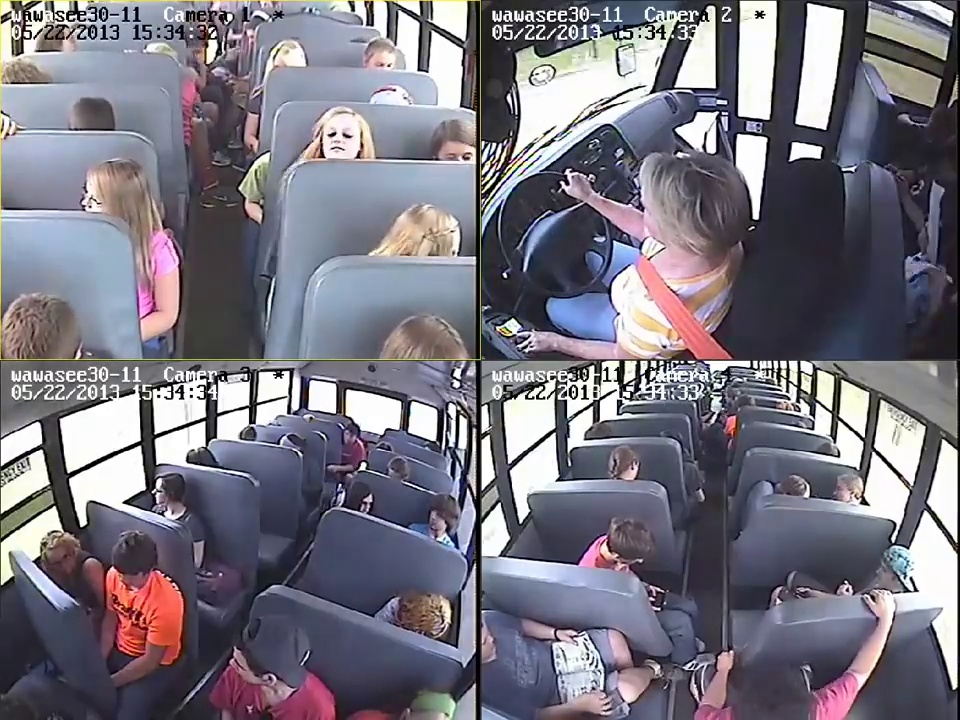face: (322, 118, 360, 154), (150, 476, 174, 506), (427, 506, 451, 533)
